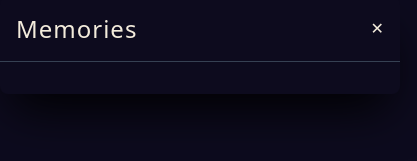
Scenario: <Memory /> › closes from the close button
Click the button "✕".
click(377, 29)  # box x1=371 y1=16 x2=384 y2=42
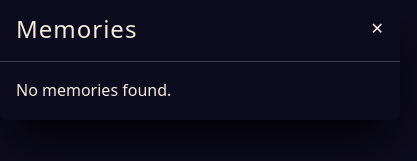
Expected: the text "No memories found." is shown, x1=16 y1=79 x2=171 y2=101
